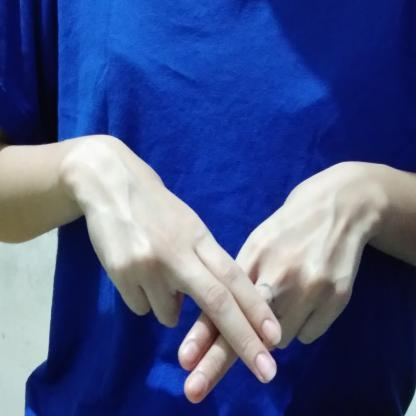father: (58, 131, 403, 408)
